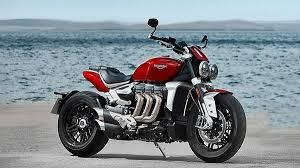8_label: (34, 11, 260, 164)
